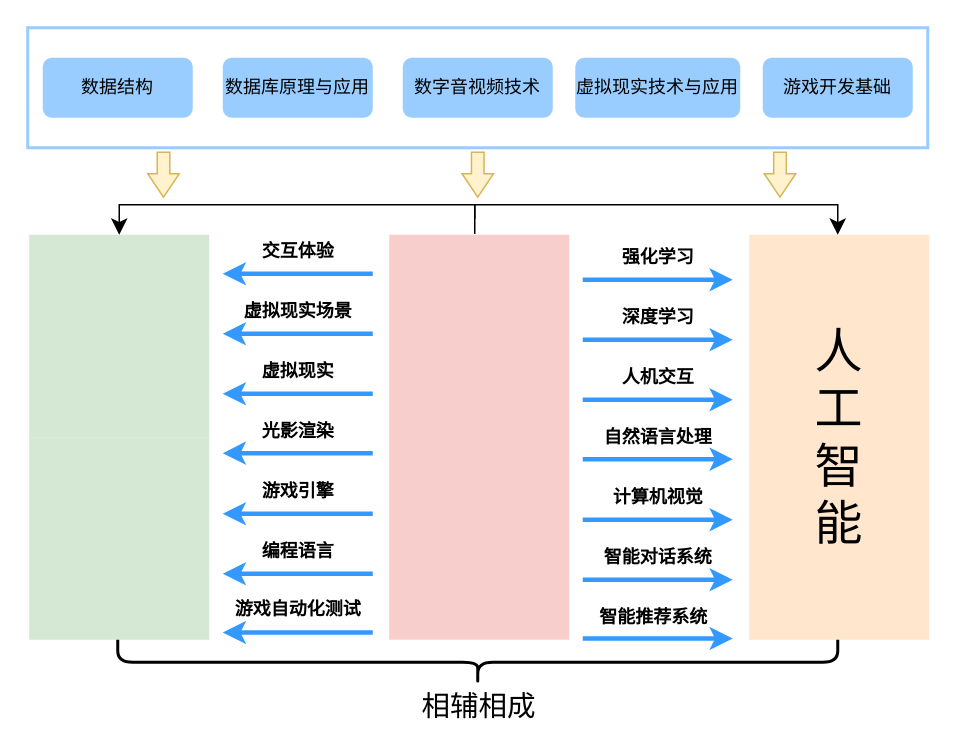
Image size: 954x755. Some labels were removed from this diagram. The shapes that lost their labels are listed below. From the top down, each one's centre as x and y in pixels, then its label:
At pixel 118 335: "虚拟 现实 技术".
At pixel 478 436: "数 字 媒 体 技 术".
At pixel 118 537: "游戏 开发".
